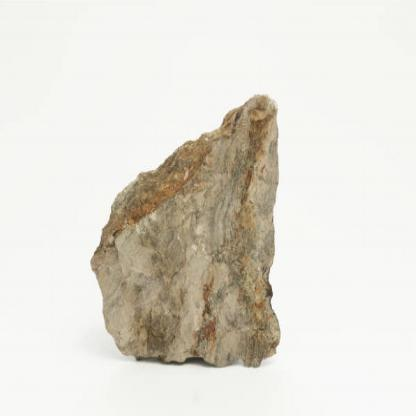Sedimentary_Limestone: (88, 85, 284, 387)
